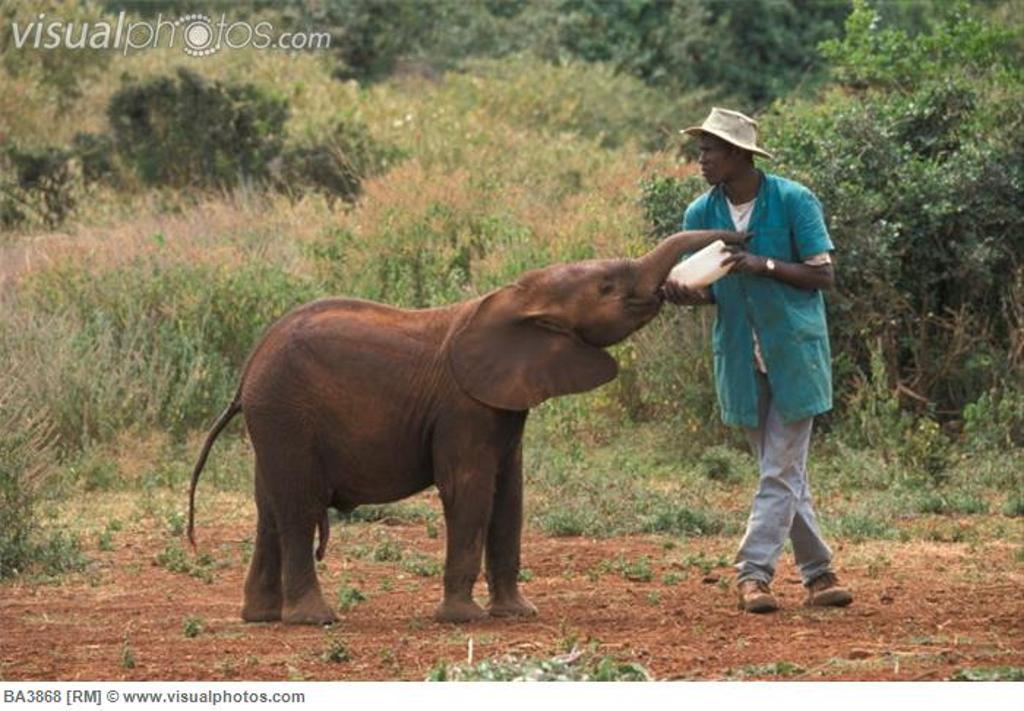face: (700, 137, 734, 185)
